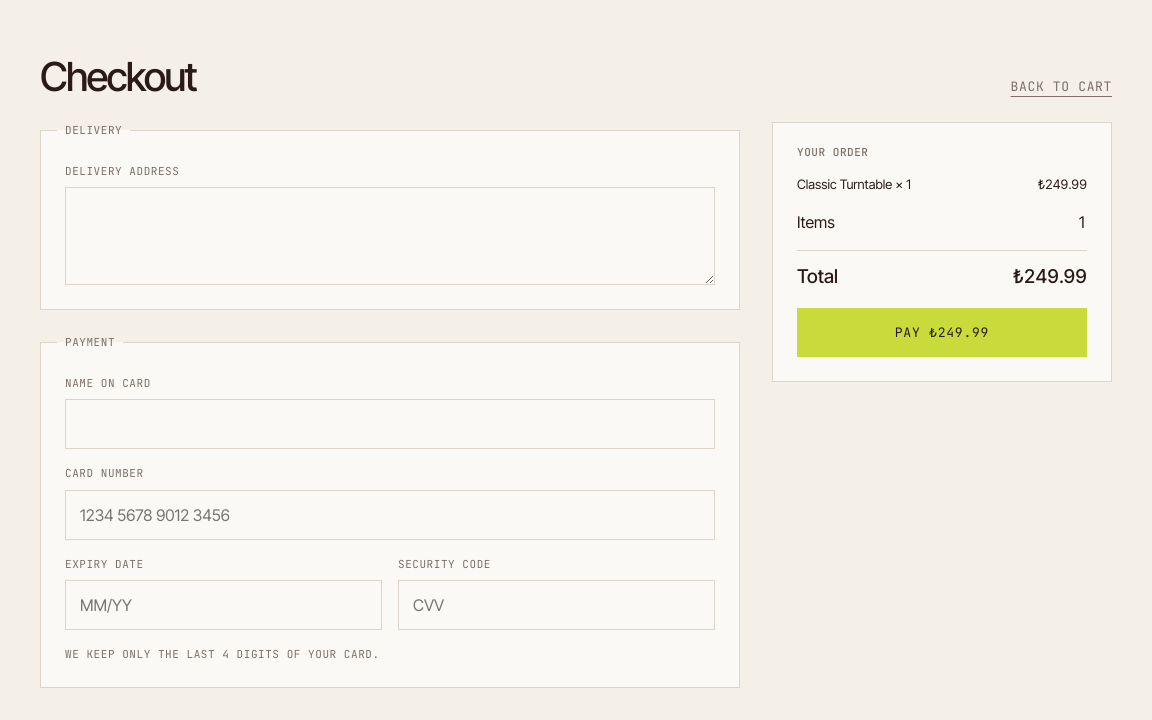
it: CheckoutPage errors › explains a connection problem without promising anything
Expected: the text "Classic Turntable × 1" is shown, [797,174,911,194]
Type "Tuzla, Istanbul" into the text box labelled "Delivery address".
click(390, 236); type("Tuzla, Istanbul")  # box [65,187,715,285]
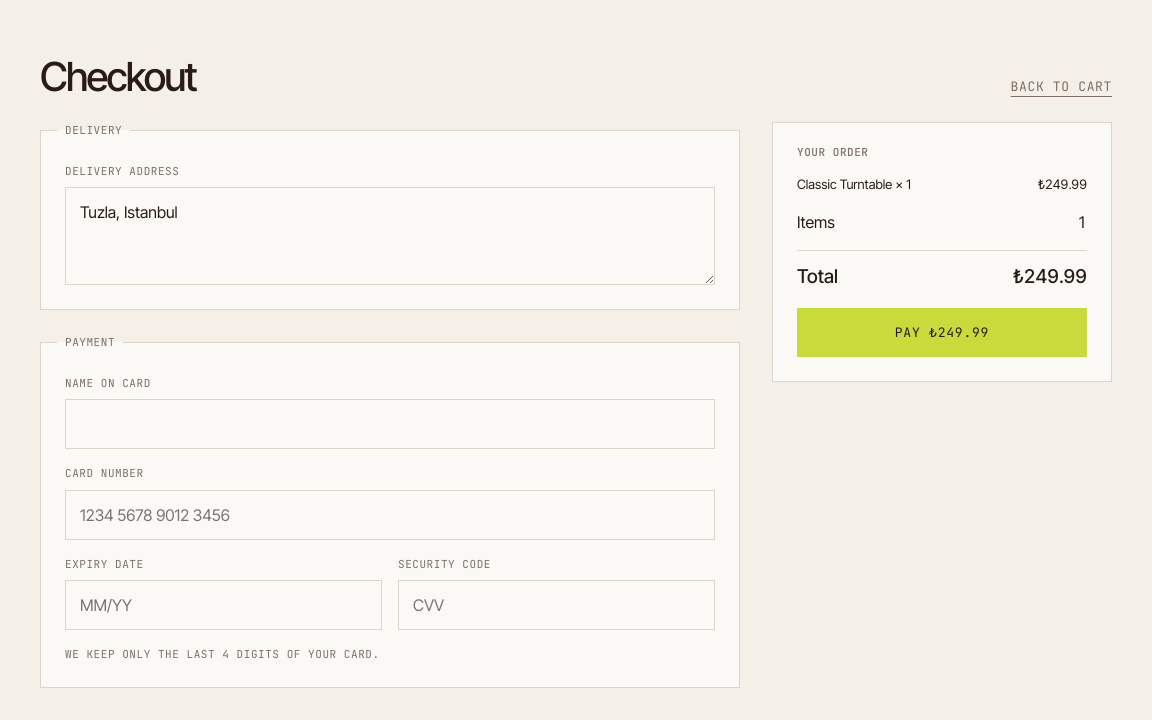
Type "Egemen Eser" into the field labelled "Name on card".
click(390, 424); type("Egemen Eser")  # box [65,399,715,449]
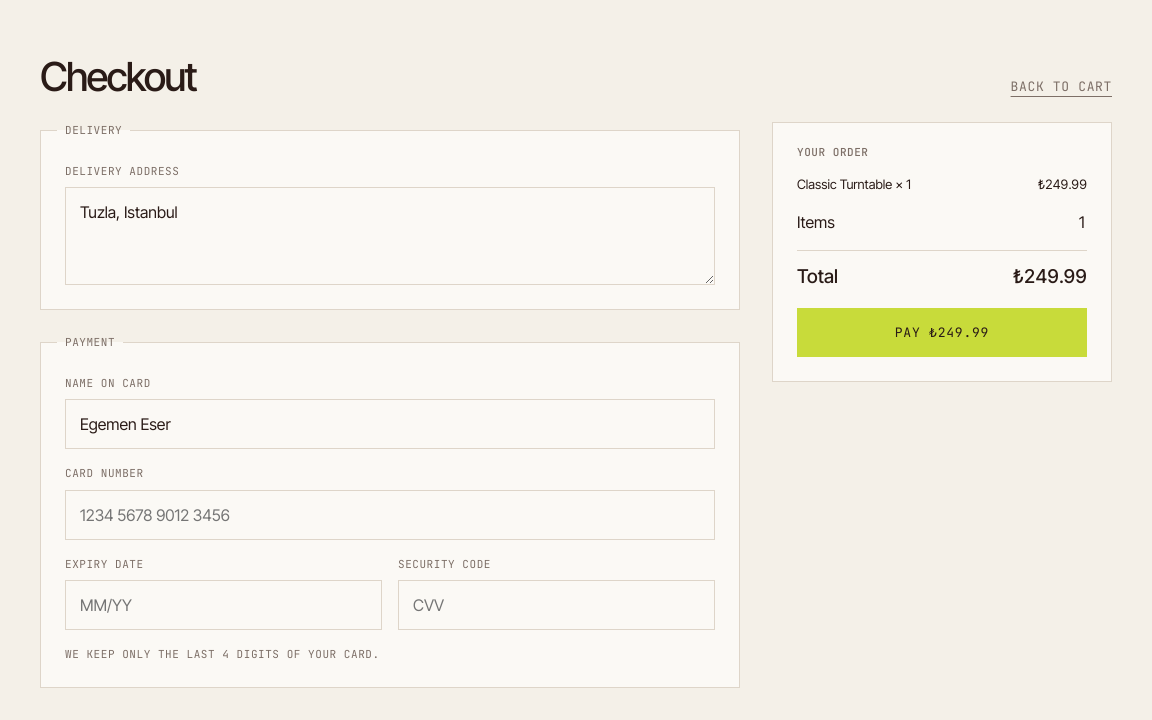
Type "4000000000000002" into the field labelled "Card number".
click(390, 514); type("4000000000000002")  # box [65,490,715,540]
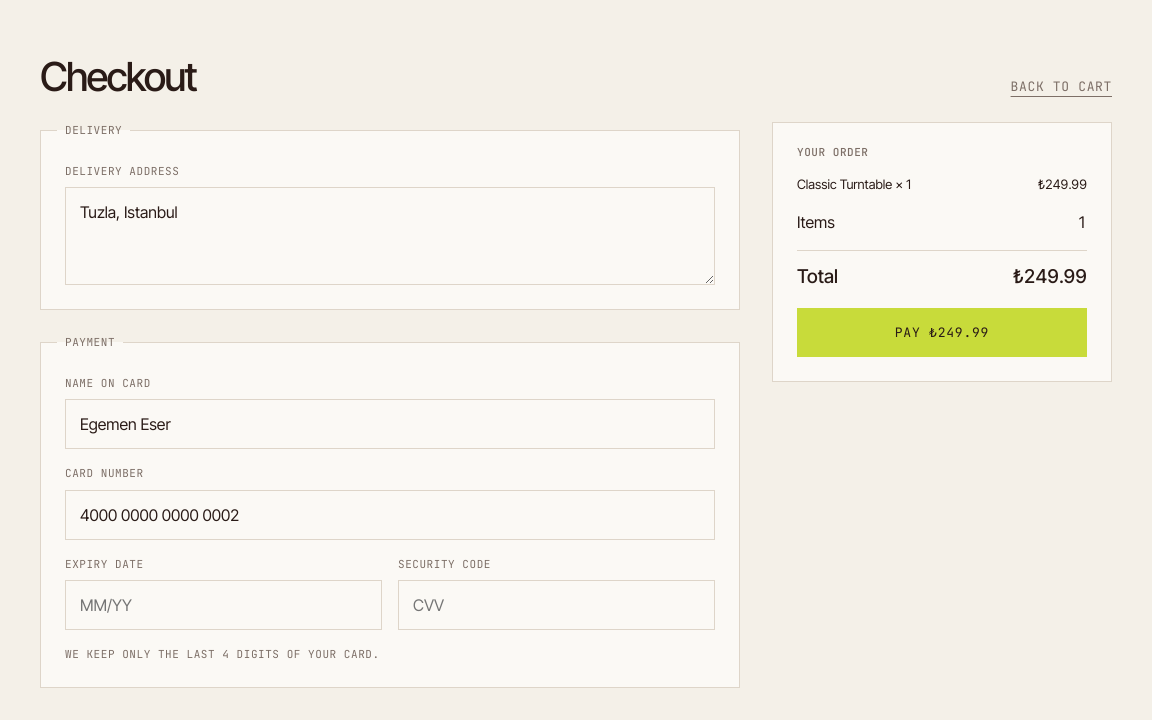
Type "1230" into the field labelled "Expiry date".
click(224, 605); type("1230")  # box [65,580,382,630]
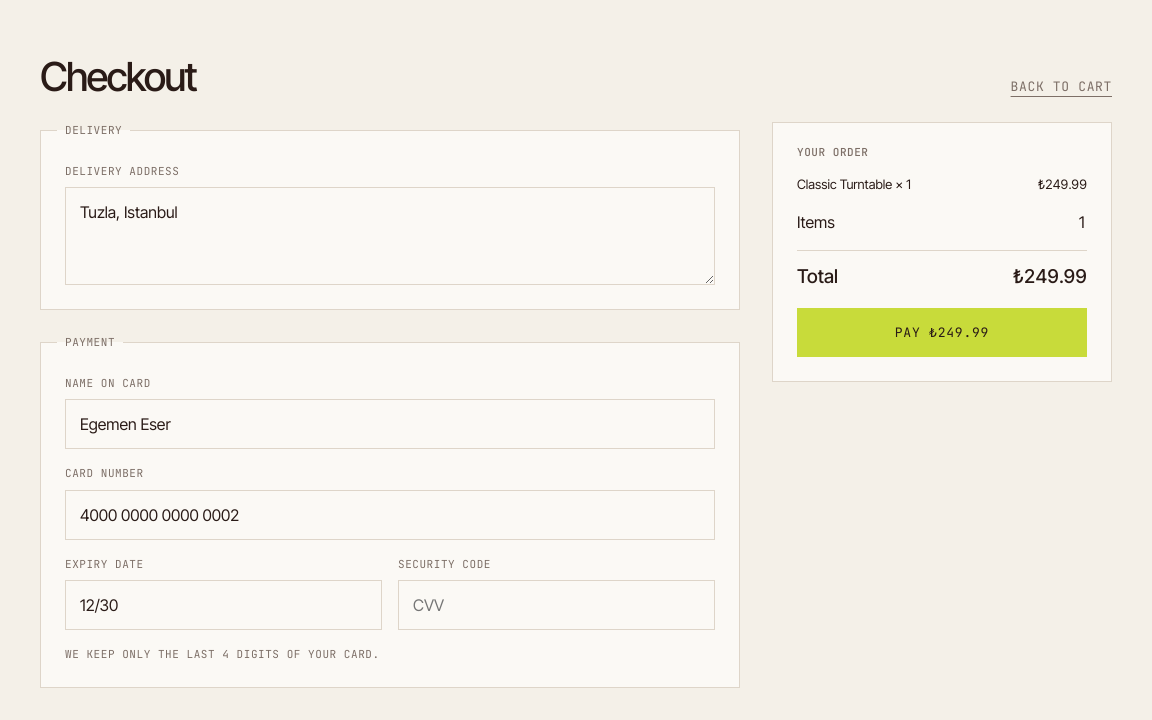
Type "123" into the field labelled "Security code".
click(556, 605); type("123")  # box [398,580,715,630]
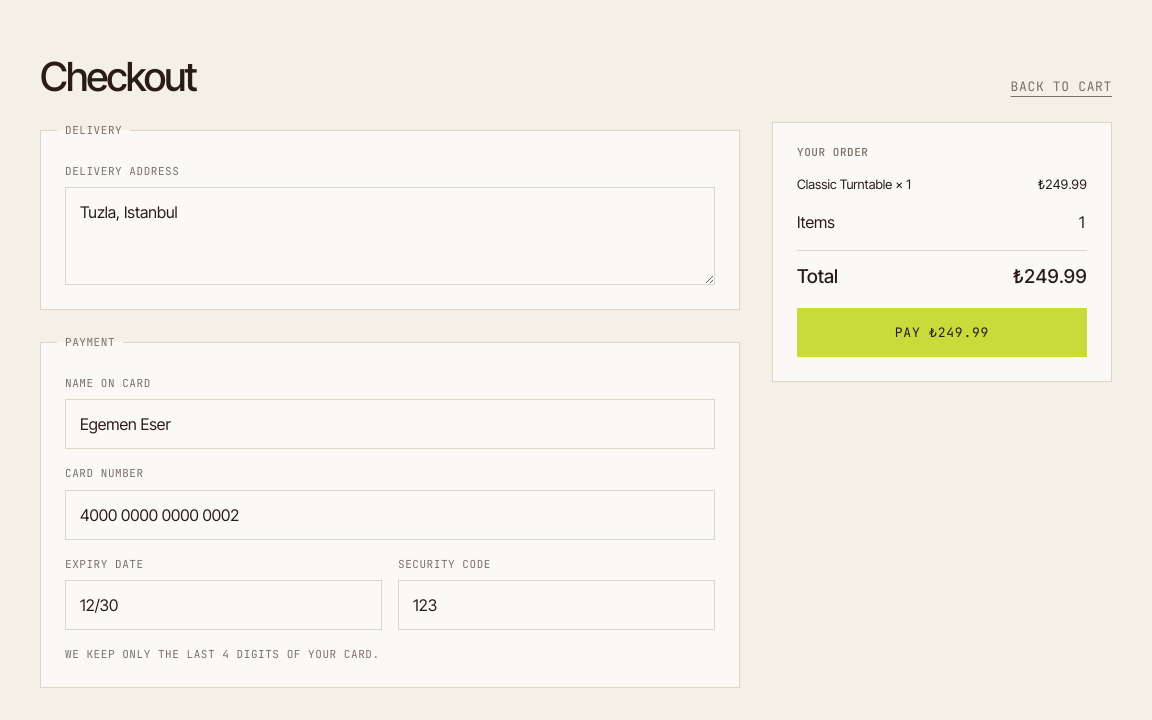
Click the button "Pay ₺249.99".
click(942, 332)  # box [797,308,1087,357]
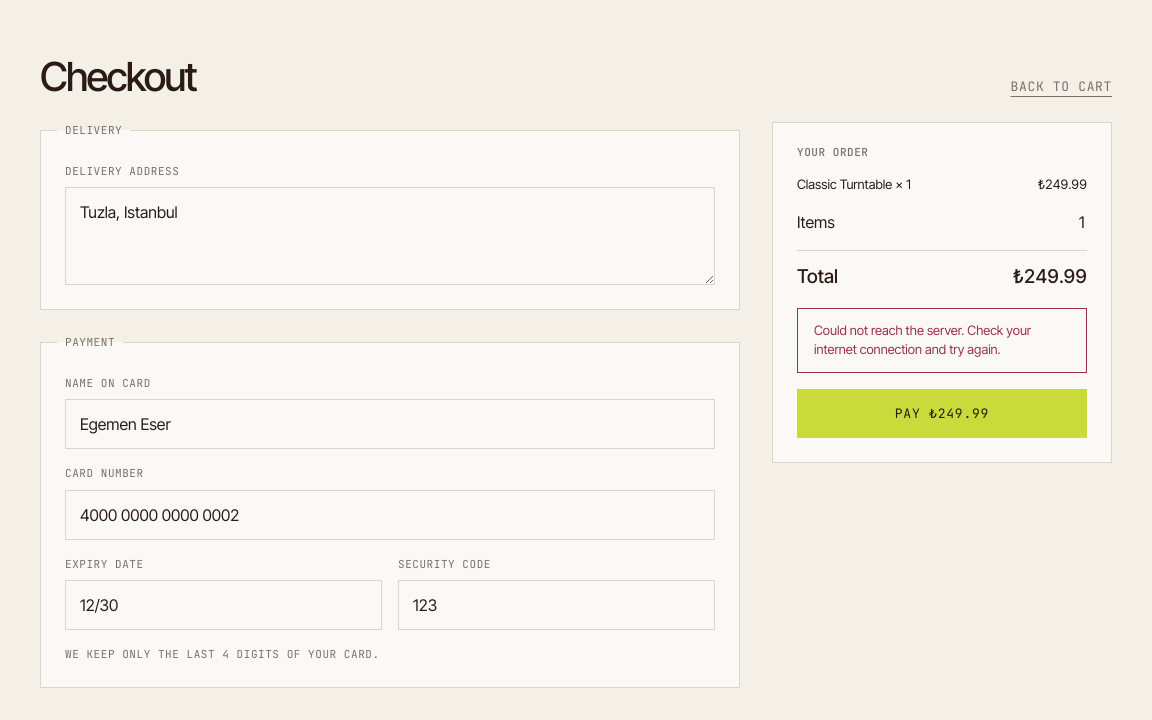
Now the message shows "Could not reach the server", box [814,322,1031,357]
